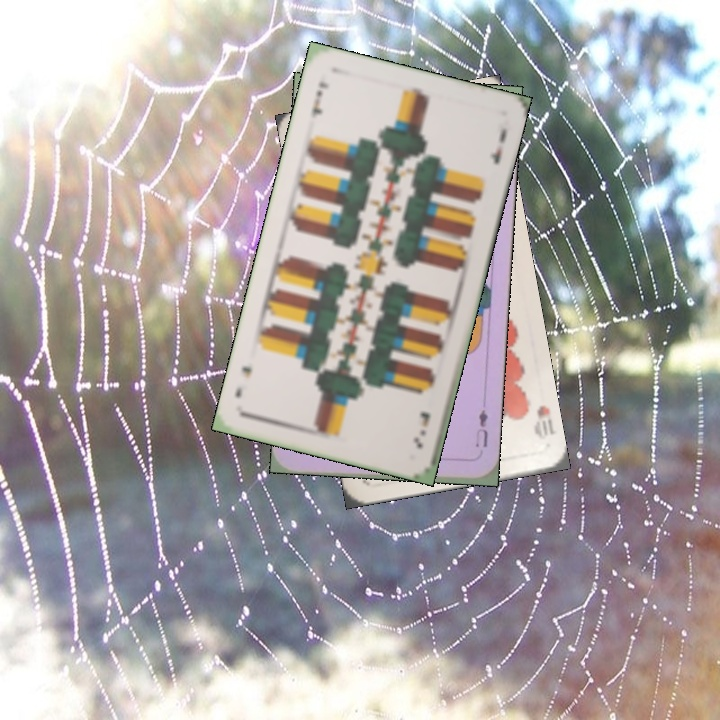E7: (409, 407, 433, 451), (307, 77, 331, 121)
EU: (472, 406, 491, 450)
H10: (529, 401, 556, 443)
